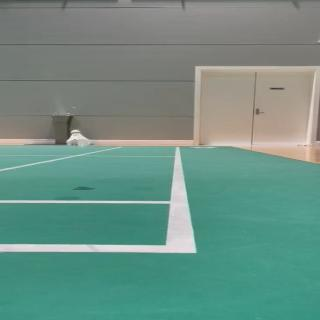Shuttle: (65, 129, 91, 148)
